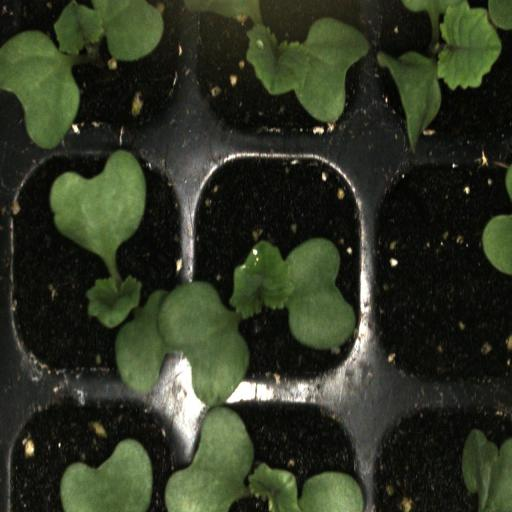noseedling: (368, 149, 512, 392)
seedling: (186, 144, 366, 392), (16, 143, 185, 386), (186, 0, 366, 148), (9, 0, 186, 147), (187, 392, 367, 512)
